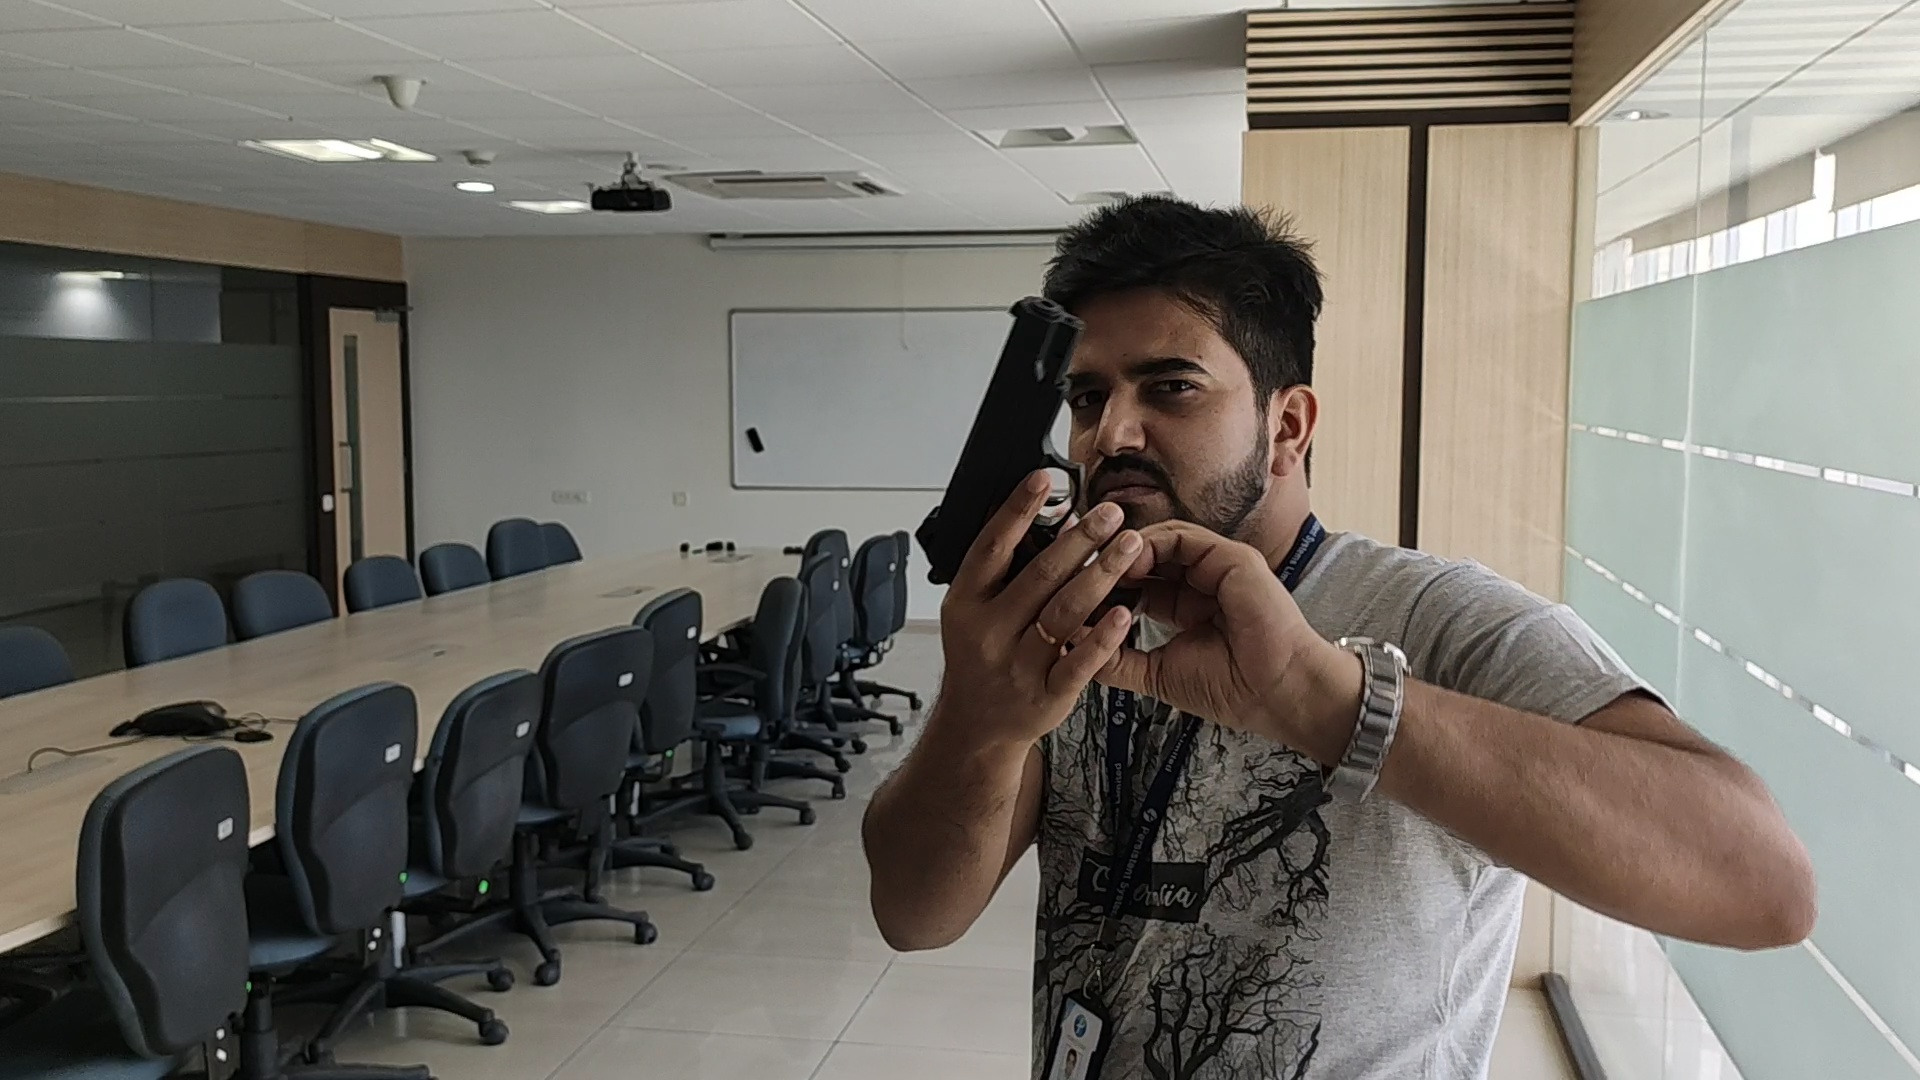gun: (916, 297, 1083, 471)
